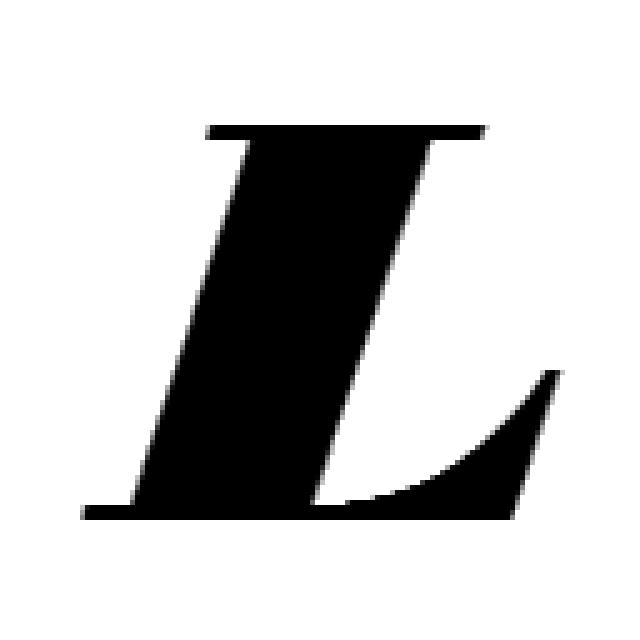L: (66, 115, 563, 522)
